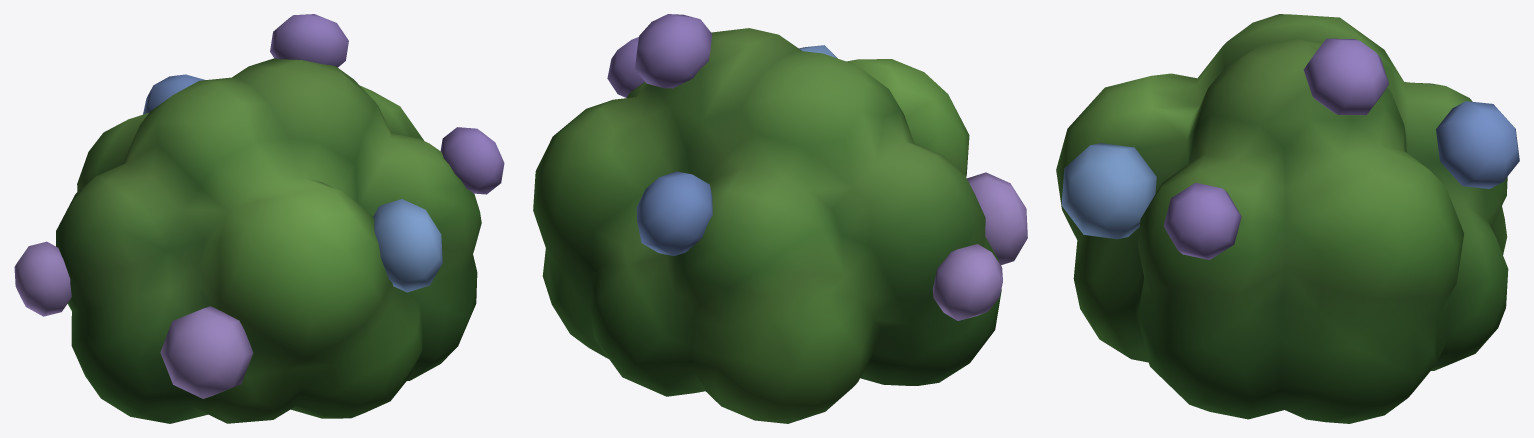
File: bush-a-summer.glb
3 views of the same model, side by side, from view 1: azimuth 30°, elevation 25°; view 2: azimuth 150°, elevation 25°; view 3: azimuth 270°, elevation 25° (orthographic). The views are drawn at different scales.
Parts seen in each view (by area): view 1: bush-a-summer; view 2: bush-a-summer; view 3: bush-a-summer.
Part boxes in pixels (bbox=[...]): bush-a-summer: bbox=[14, 14, 504, 423]; bush-a-summer: bbox=[533, 14, 1027, 423]; bush-a-summer: bbox=[1056, 14, 1519, 423].
Size of the model in its own units: 1.11 by 0.8716 by 0.9887.
